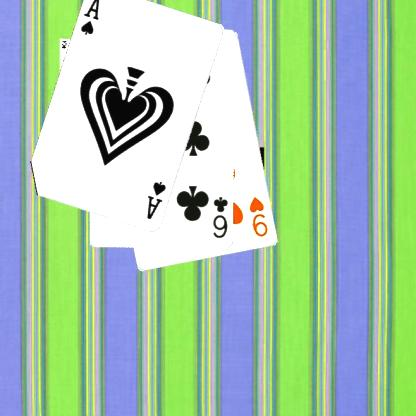6C: (210, 194, 230, 240)
9H: (247, 194, 270, 238)
AS: (144, 179, 168, 221), (78, 0, 101, 37)
